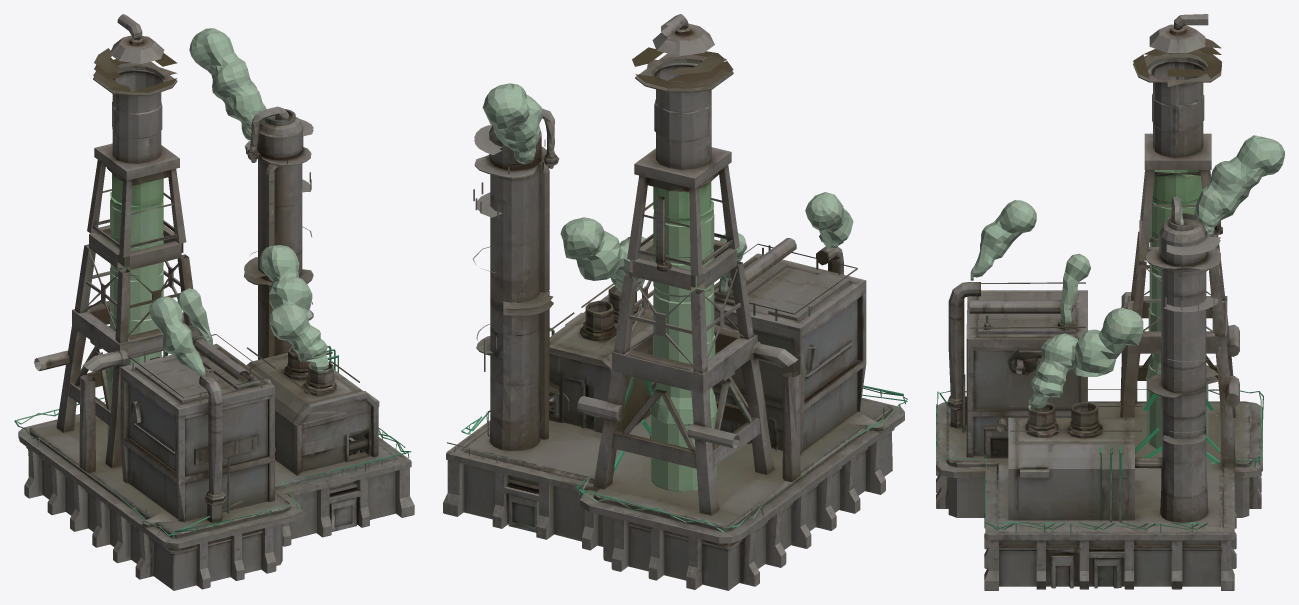
Rendered from extractor_LOD0.glb.
The picture shows the model from 3 angles, left to right: view 1: azimuth 30°, elevation 25°; view 2: azimuth 150°, elevation 25°; view 3: azimuth 270°, elevation 25°; orthographic projection. The views are drawn at different scales.
Visible parts, largest first — view 1: extractor_LOD0; view 2: extractor_LOD0; view 3: extractor_LOD0.
Boxes of the visible parts, bbox=[...] form: extractor_LOD0: bbox=[14, 14, 414, 590]; extractor_LOD0: bbox=[443, 14, 907, 590]; extractor_LOD0: bbox=[936, 14, 1284, 590].
Bounding box in the file's own units: 0.6104 × 0.9978 × 0.6515.
Materials: 1 (1 with a texture image).
